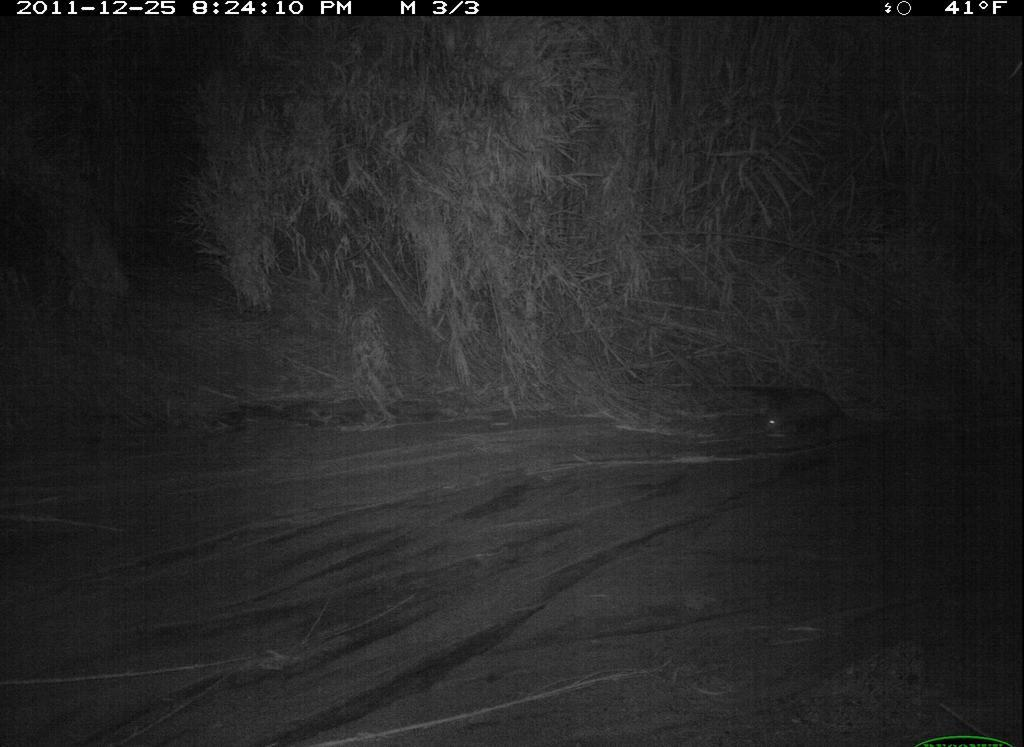opossum: (760, 377, 882, 454)
